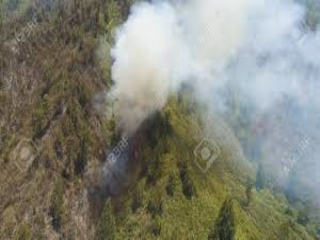smoke: (88, 2, 270, 177)
